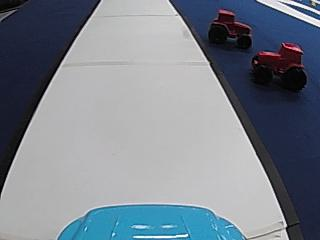Tracktor: (251, 38, 306, 89), (206, 6, 253, 48)
